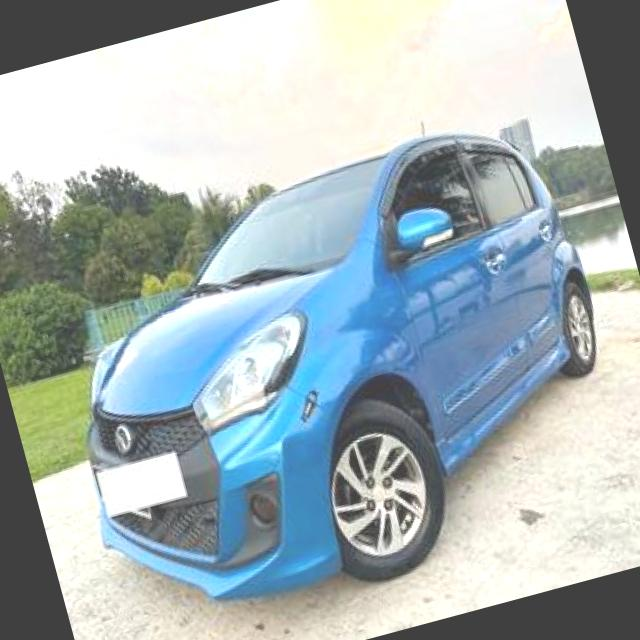PeroduaMyvi: (19, 97, 640, 640)
